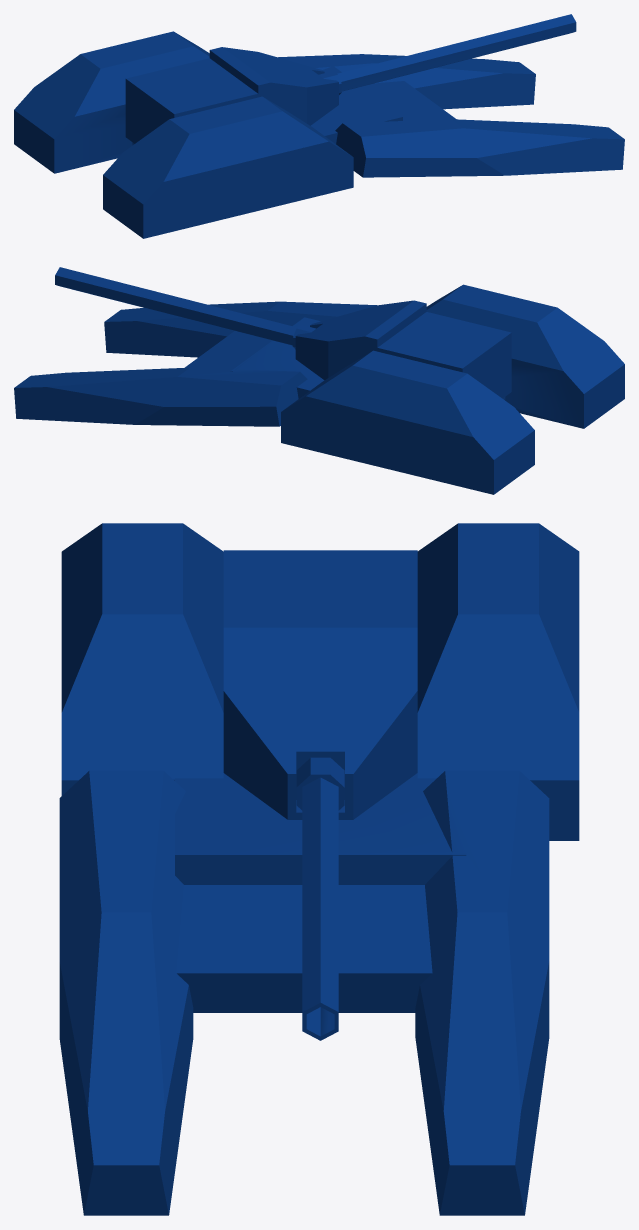
The model's file is tank1.obj.
The picture shows the model from 3 angles, top to bottom: view 1: azimuth 30°, elevation 25°; view 2: azimuth 150°, elevation 25°; view 3: azimuth 270°, elevation 25°; orthographic projection. The views are drawn at different scales.
Parts seen in each view (by area): view 1: Box001; view 2: Box001; view 3: Box001.
Part boxes in pixels (left/top/right/bottom): Box001: left=14, top=14, right=624, bottom=238; Box001: left=14, top=267, right=624, bottom=494; Box001: left=59, top=523, right=579, bottom=1215.
Bounding box in the file's own units: 56.32 × 15.18 × 25.71.
